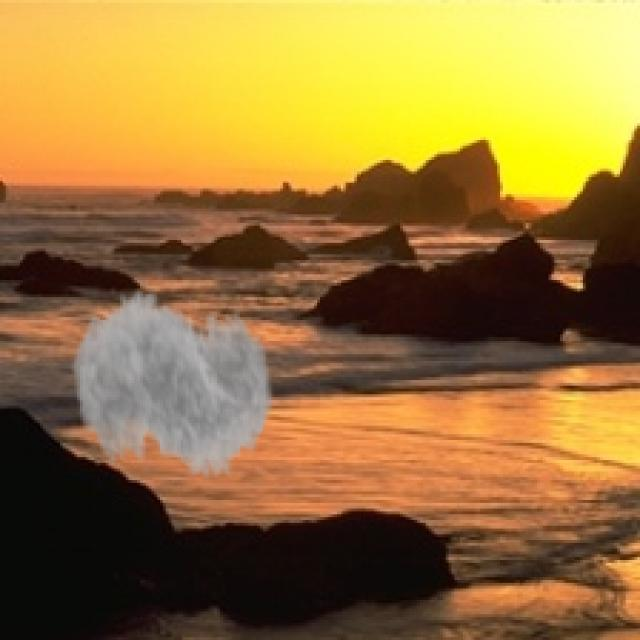smoke: (72, 271, 274, 503)
